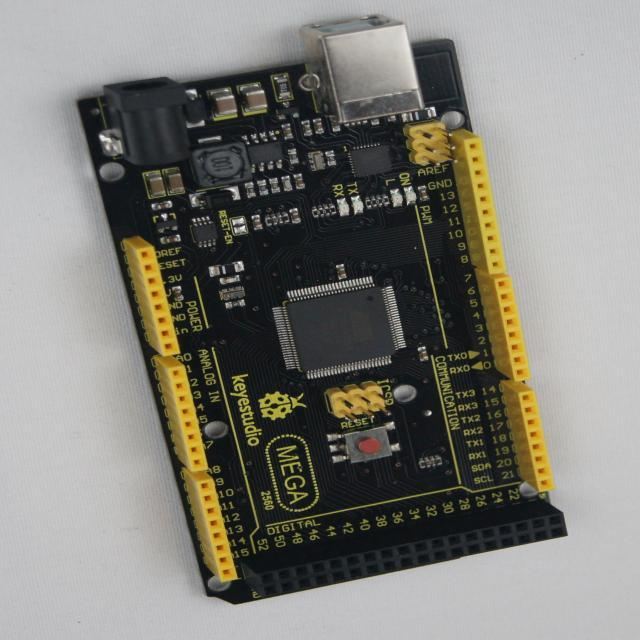Arduino Mega 2560 -Yellow-: (79, 16, 567, 604)
